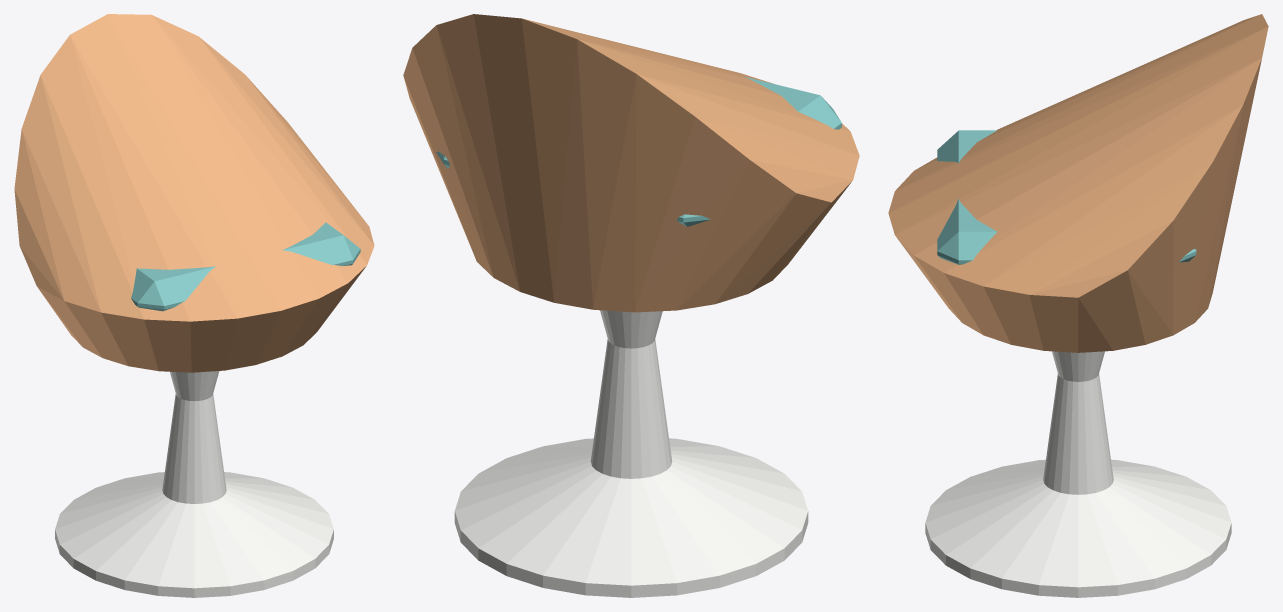
File: tulip_chair.glb
The picture shows the model from 3 angles, left to right: view 1: azimuth 30°, elevation 25°; view 2: azimuth 150°, elevation 25°; view 3: azimuth 270°, elevation 25°; orthographic projection. The views are drawn at different scales.
Visible parts, largest first — view 1: tulip_chair_vinyl_o, tulip_chair_paint_w, tulip_chair_vinyl_t; view 2: tulip_chair_vinyl_o, tulip_chair_paint_w, tulip_chair_vinyl_t; view 3: tulip_chair_vinyl_o, tulip_chair_paint_w, tulip_chair_vinyl_t.
Part boxes in pixels (box(x1,y1,x2,y2)): tulip_chair_vinyl_o: box(14, 14, 374, 372); tulip_chair_paint_w: box(55, 371, 333, 597); tulip_chair_vinyl_t: box(131, 222, 360, 311); tulip_chair_vinyl_o: box(403, 14, 859, 312); tulip_chair_paint_w: box(454, 310, 808, 597); tulip_chair_vinyl_t: box(436, 76, 841, 226); tulip_chair_vinyl_o: box(888, 14, 1268, 352); tulip_chair_paint_w: box(925, 351, 1231, 597); tulip_chair_vinyl_t: box(937, 130, 1196, 264).
Bounding box in the file's own units: 0.68 × 0.95 × 0.646.
